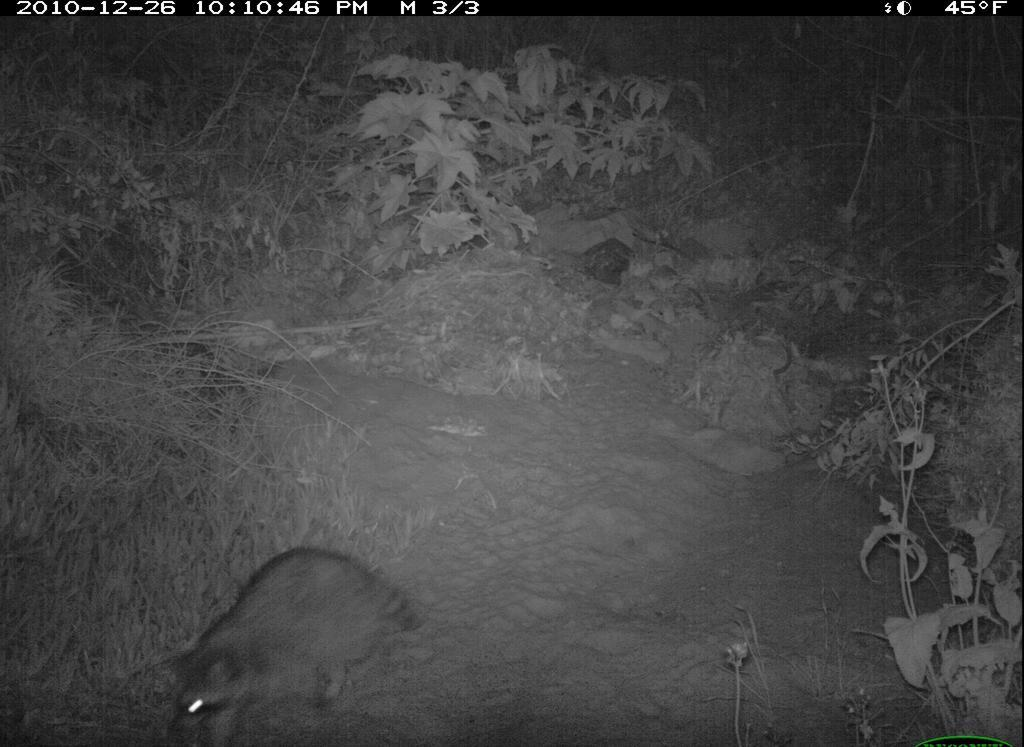raccoon: (157, 538, 431, 747)
